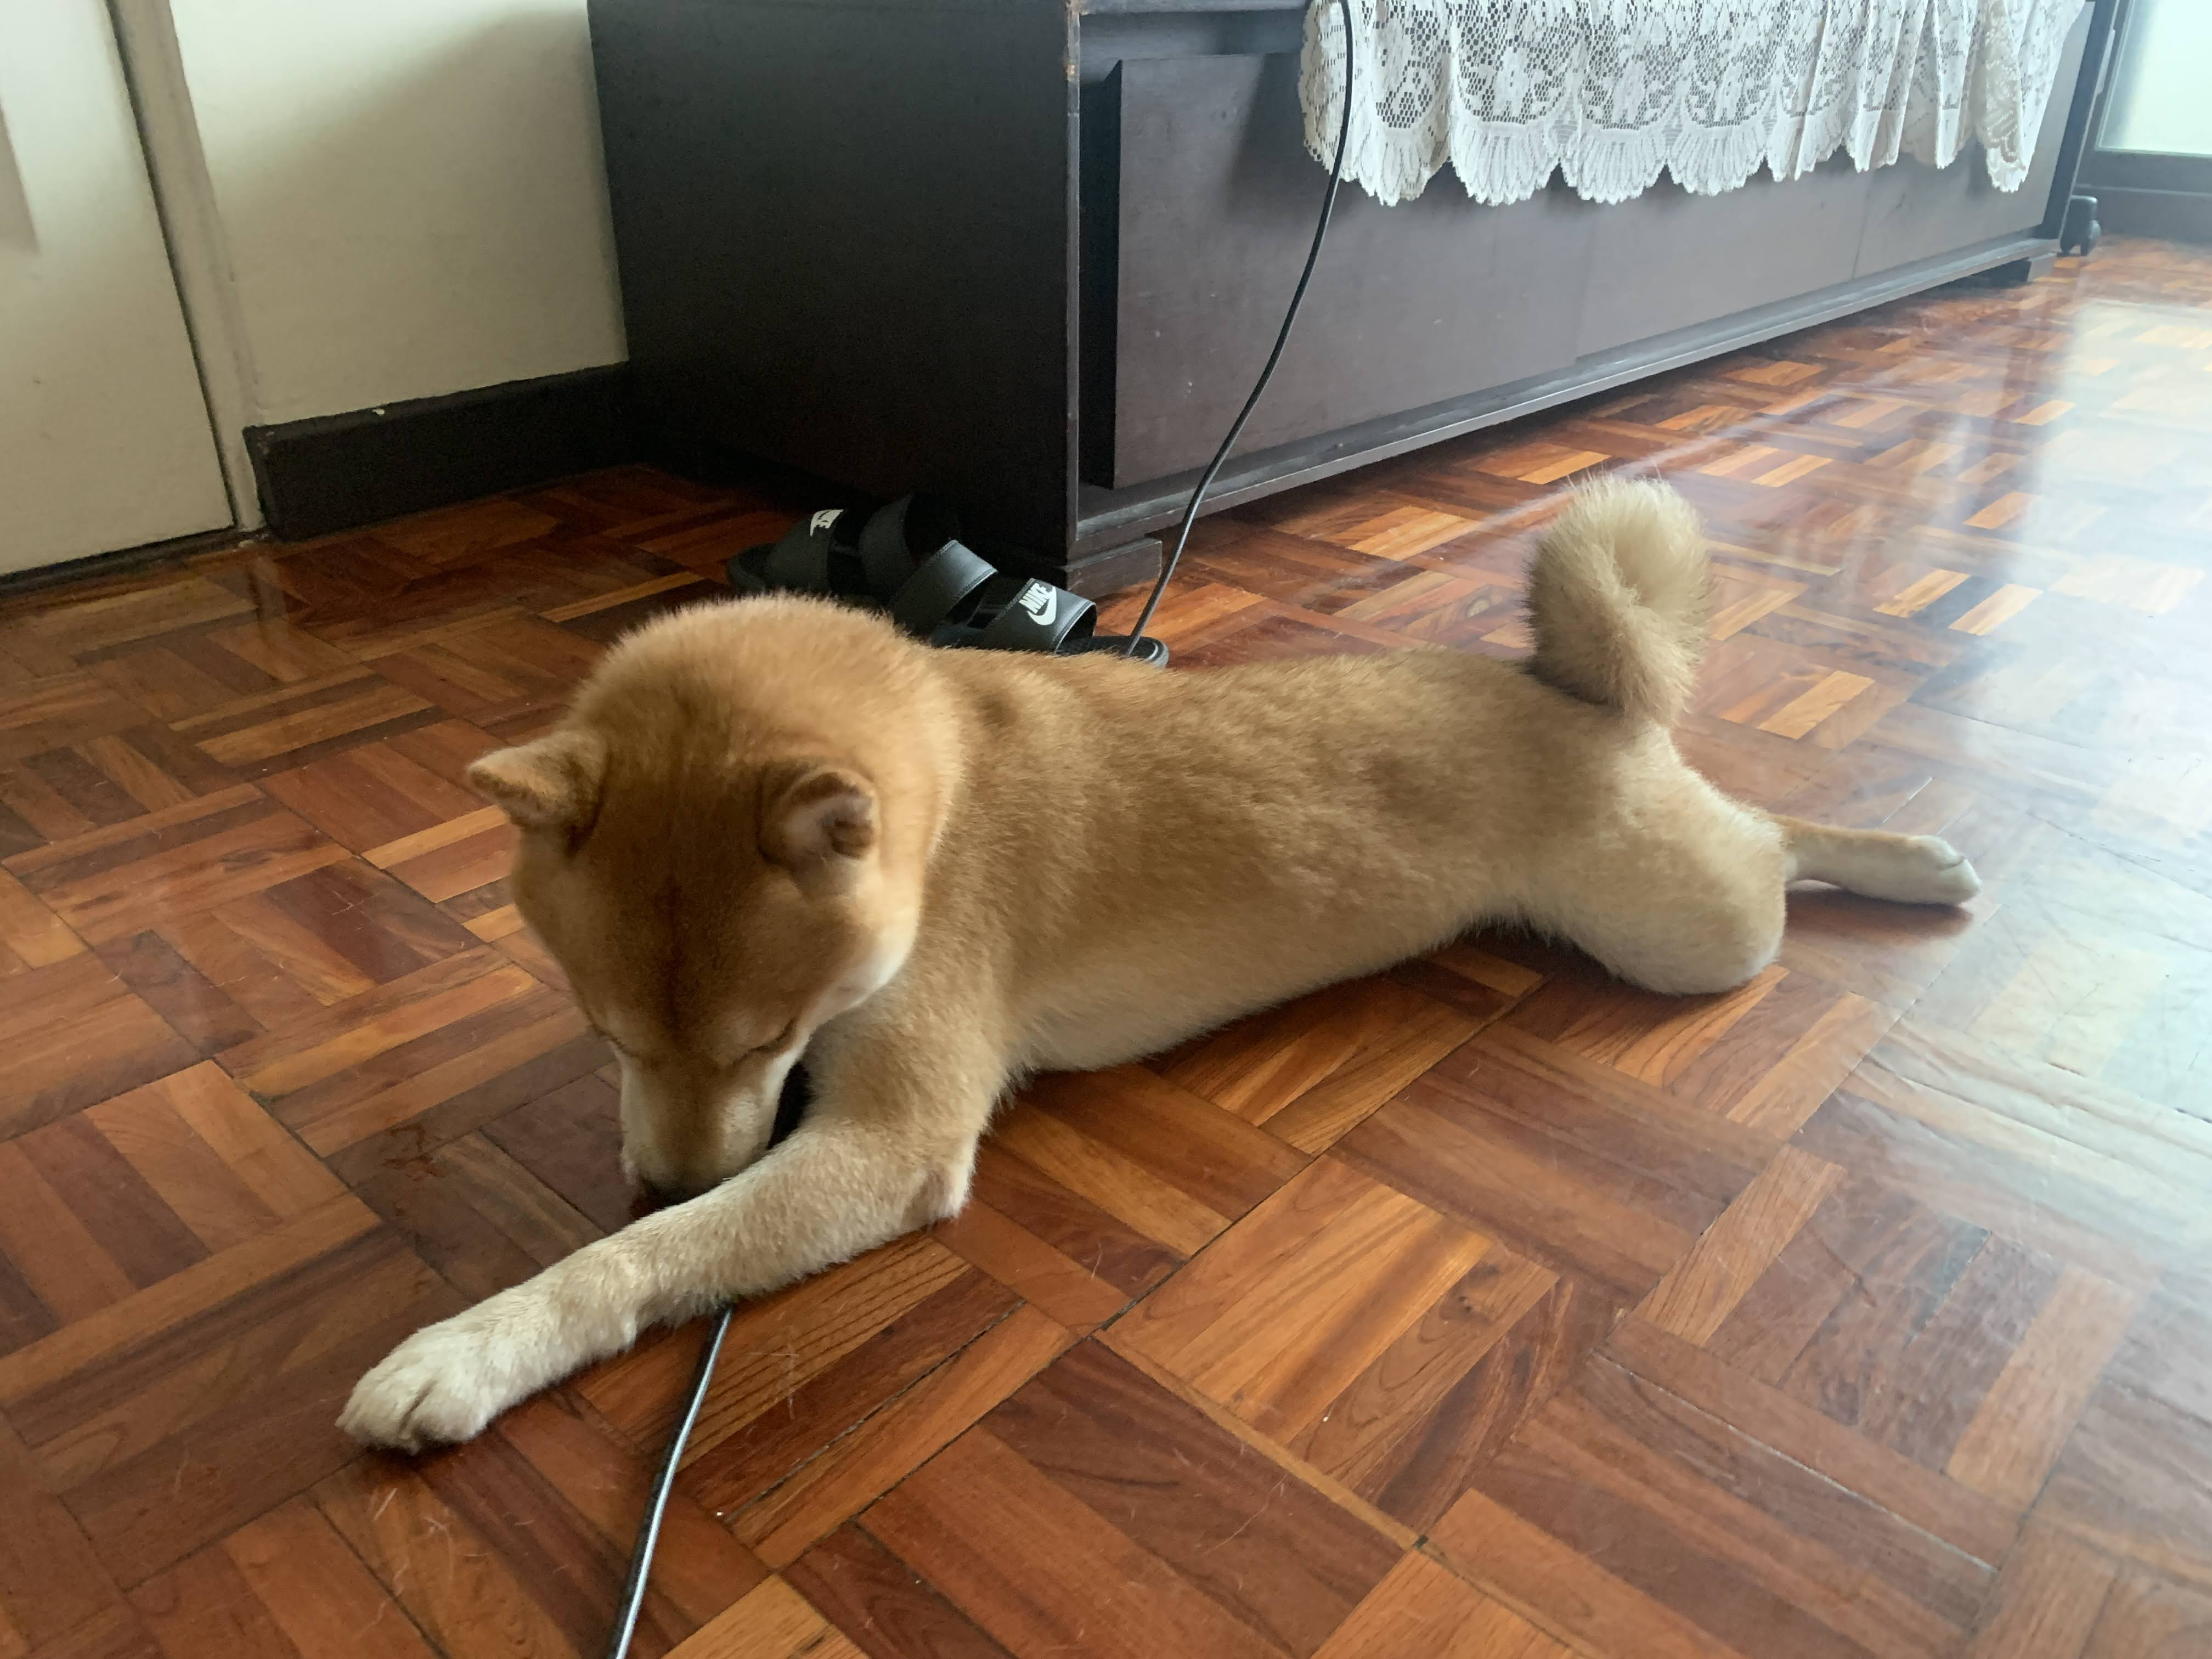Get down: (305, 516, 2057, 1441)
